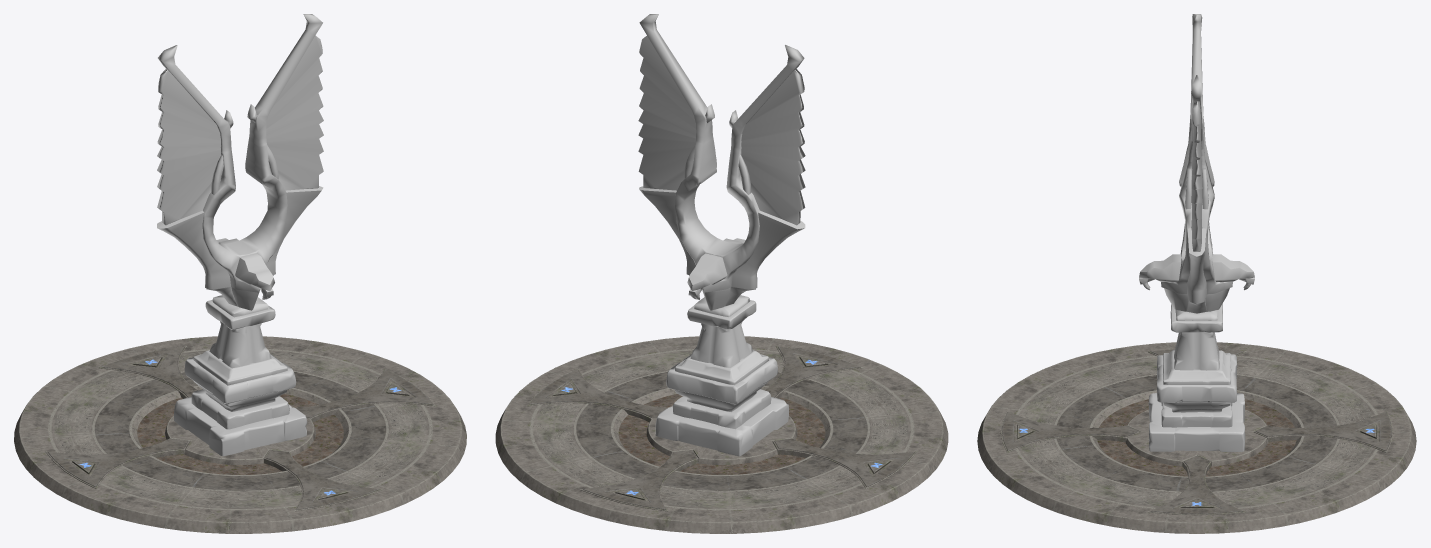
The model's file is Obelisk.fbx.
The picture shows the model from 3 angles, left to right: view 1: azimuth 30°, elevation 25°; view 2: azimuth 150°, elevation 25°; view 3: azimuth 270°, elevation 25°; orthographic projection. The views are drawn at different scales.
Parts seen in each view (by area): view 1: SM_Obelisk_Floor_01, SM_Obelisk, SM_Obelisk_Floor_02; view 2: SM_Obelisk_Floor_01, SM_Obelisk, SM_Obelisk_Floor_02; view 3: SM_Obelisk_Floor_01, SM_Obelisk, SM_Obelisk_Floor_02.
Part boxes in pixels (box(x1,y1,x2,y2)): SM_Obelisk_Floor_01: box(14, 336, 466, 533); SM_Obelisk: box(157, 14, 323, 456); SM_Obelisk_Floor_02: box(45, 346, 435, 511); SM_Obelisk_Floor_01: box(495, 336, 948, 533); SM_Obelisk: box(638, 14, 805, 456); SM_Obelisk_Floor_02: box(527, 346, 917, 511); SM_Obelisk_Floor_01: box(977, 342, 1416, 533); SM_Obelisk: box(1139, 14, 1254, 451); SM_Obelisk_Floor_02: box(1000, 349, 1393, 515).
Size of the model in its own units: 4.49 by 4.47 by 4.49.
